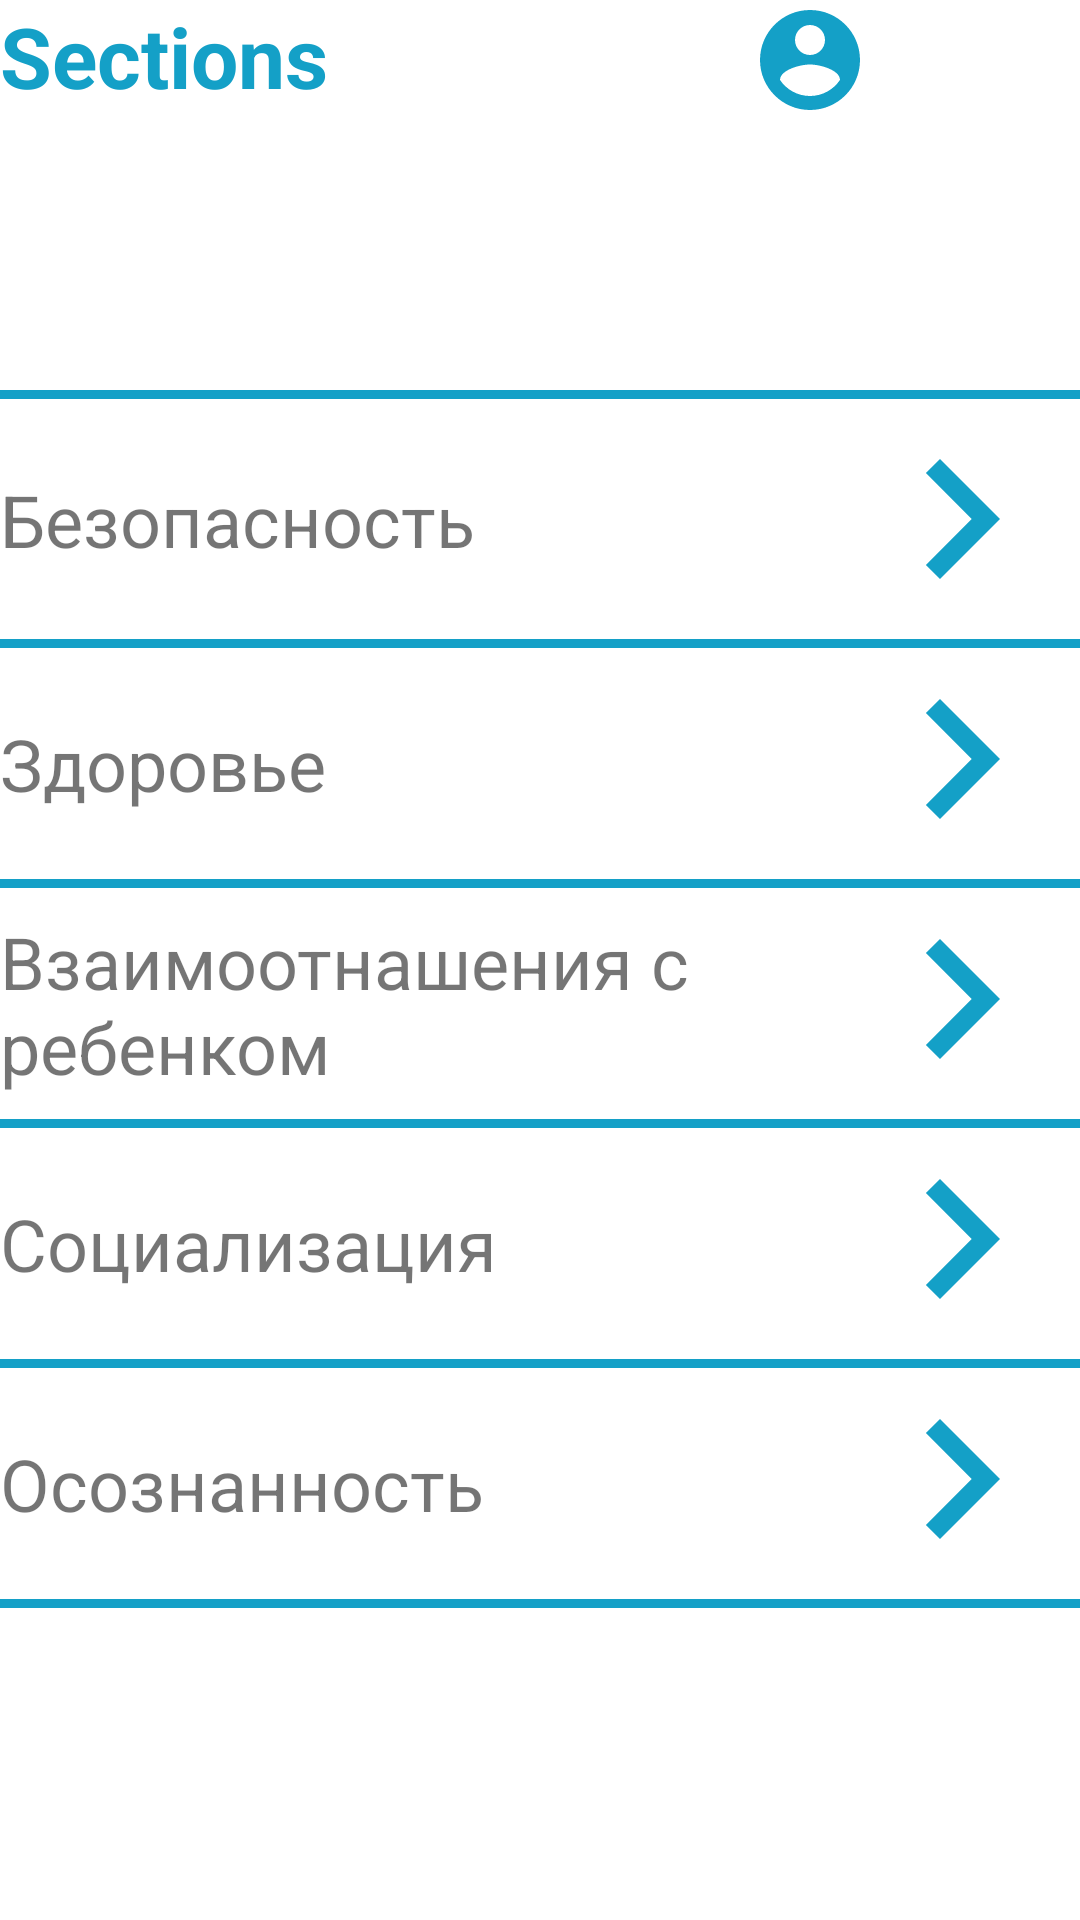

Named icons in this screenshot (1080x1920) and their bounding boxes, [left=x1, top=y1, right=x2, bottom=y2]:
account circle: [left=760, top=10, right=860, bottom=110]
chevron right: [left=926, top=459, right=1000, bottom=579], [left=926, top=699, right=1000, bottom=819], [left=926, top=939, right=1000, bottom=1059], [left=926, top=1179, right=1000, bottom=1299], [left=926, top=1419, right=1000, bottom=1539]
